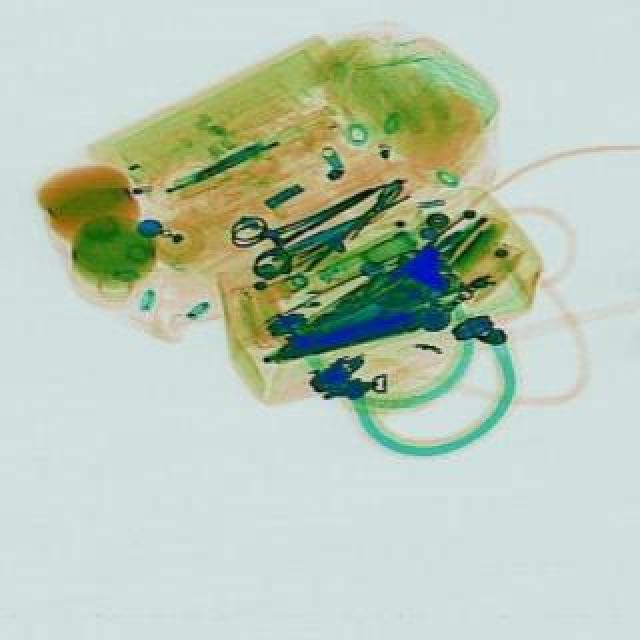pliers: (226, 158, 402, 290)
